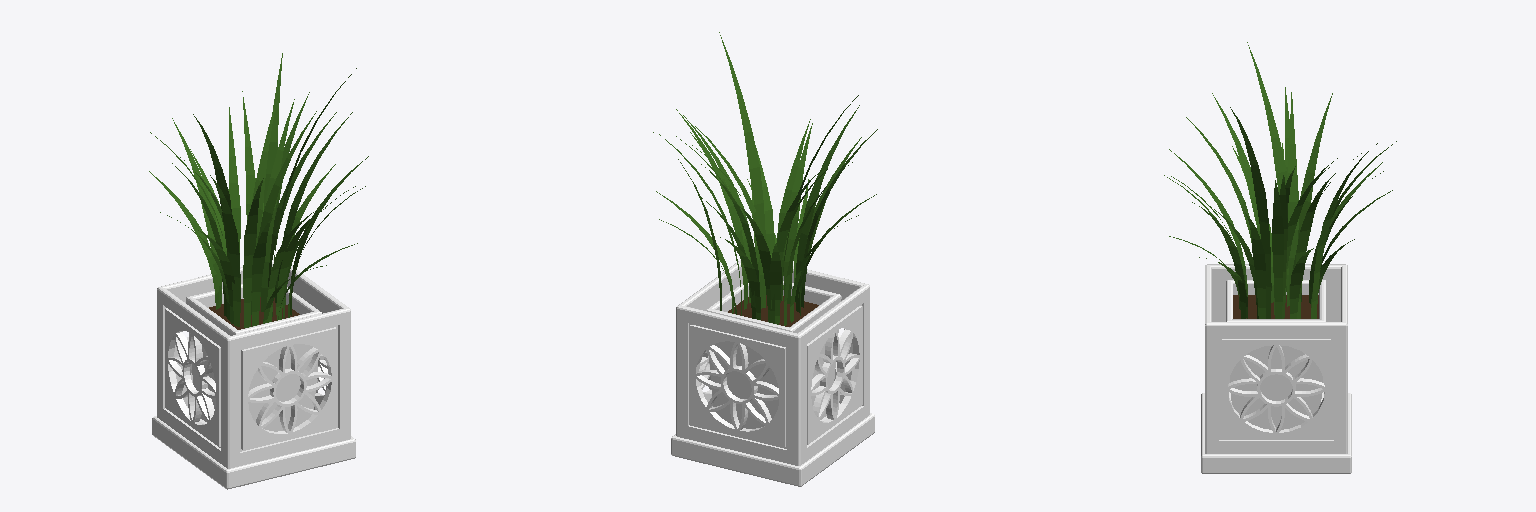
Rendered from Plant.obj.
The picture shows the model from 3 angles: view 1: azimuth 30°, elevation 25°; view 2: azimuth 150°, elevation 25°; view 3: azimuth 270°, elevation 25°; orthographic projection.
Parts seen in each view (by area): view 1: Mesh3 Kvetinac__kostra1 Model, Mesh1 Kvetinac__mozaika1 Model, Mesh6 Kvetinac__mozaika4 Model, Mesh2 Kvetinac__vnitrni1 Model, Mesh9 Trava_Steblo3 Trava1 Model, Mesh24 Trava_Steblo18 Trava1 Model, Mesh25 Trava_Steblo19 Trava1 Model, Mesh36 Trava_Steblo30 Trava1 Model, Mesh30 Trava_Steblo24 Trava1 Model, Mesh14 Trava_Steblo8 Trava1 Model, Mesh29 Trava_Steblo23 Trava1 Model, Mesh18 Trava_Steblo12 Trava1 Model (+10 smaller); view 2: Mesh3 Kvetinac__kostra1 Model, Mesh4 Kvetinac__mozaika2 Model, Mesh6 Kvetinac__mozaika4 Model, Mesh2 Kvetinac__vnitrni1 Model, Mesh34 Trava_Steblo28 Trava1 Model, Mesh9 Trava_Steblo3 Trava1 Model, Mesh20 Trava_Steblo14 Trava1 Model, Mesh26 Trava_Steblo20 Trava1 Model, Mesh14 Trava_Steblo8 Trava1 Model, Mesh7 Trava_Steblo1 Trava1 Model, Mesh28 Trava_Steblo22 Trava1 Model, Mesh23 Trava_Steblo17 Trava1 Model (+1 smaller); view 3: Mesh3 Kvetinac__kostra1 Model, Mesh5 Kvetinac__mozaika3 Model, Mesh2 Kvetinac__vnitrni1 Model, Mesh34 Trava_Steblo28 Trava1 Model, Mesh26 Trava_Steblo20 Trava1 Model, Mesh27 Trava_Steblo21 Trava1 Model, Mesh12 Trava_Steblo6 Trava1 Model, Mesh8 Trava_Steblo2 Trava1 Model, Mesh29 Trava_Steblo23 Trava1 Model, Mesh35 Trava_Steblo29 Trava1 Model, Mesh11 Trava_Steblo5 Trava1 Model, Mesh24 Trava_Steblo18 Trava1 Model (+3 smaller).
Part boxes in pixels (bbox=[...]): Mesh3 Kvetinac__kostra1 Model: bbox=[152, 259, 355, 489]; Mesh1 Kvetinac__mozaika1 Model: bbox=[240, 326, 337, 451]; Mesh6 Kvetinac__mozaika4 Model: bbox=[165, 307, 220, 447]; Mesh2 Kvetinac__vnitrni1 Model: bbox=[186, 284, 321, 431]; Mesh9 Trava_Steblo3 Trava1 Model: bbox=[243, 178, 263, 327]; Mesh24 Trava_Steblo18 Trava1 Model: bbox=[210, 175, 240, 326]; Mesh25 Trava_Steblo19 Trava1 Model: bbox=[261, 99, 294, 311]; Mesh36 Trava_Steblo30 Trava1 Model: bbox=[251, 218, 272, 326]; Mesh30 Trava_Steblo24 Trava1 Model: bbox=[228, 107, 240, 252]; Mesh14 Trava_Steblo8 Trava1 Model: bbox=[172, 118, 221, 307]; Mesh29 Trava_Steblo23 Trava1 Model: bbox=[264, 53, 282, 269]; Mesh18 Trava_Steblo12 Trava1 Model: bbox=[268, 112, 336, 286]; Mesh3 Kvetinac__kostra1 Model: bbox=[671, 260, 874, 486]; Mesh4 Kvetinac__mozaika2 Model: bbox=[689, 323, 786, 448]; Mesh6 Kvetinac__mozaika4 Model: bbox=[807, 304, 862, 444]; Mesh2 Kvetinac__vnitrni1 Model: bbox=[705, 281, 841, 428]; Mesh34 Trava_Steblo28 Trava1 Model: bbox=[719, 32, 765, 308]; Mesh9 Trava_Steblo3 Trava1 Model: bbox=[795, 105, 859, 312]; Mesh20 Trava_Steblo14 Trava1 Model: bbox=[784, 123, 812, 303]; Mesh26 Trava_Steblo20 Trava1 Model: bbox=[676, 109, 747, 309]; Mesh14 Trava_Steblo8 Trava1 Model: bbox=[737, 204, 774, 323]; Mesh7 Trava_Steblo1 Trava1 Model: bbox=[769, 244, 781, 324]; Mesh28 Trava_Steblo22 Trava1 Model: bbox=[777, 119, 810, 300]; Mesh23 Trava_Steblo17 Trava1 Model: bbox=[755, 145, 774, 253]; Mesh3 Kvetinac__kostra1 Model: bbox=[1201, 264, 1351, 473]; Mesh5 Kvetinac__mozaika3 Model: bbox=[1219, 337, 1333, 439]; Mesh2 Kvetinac__vnitrni1 Model: bbox=[1226, 280, 1325, 429]; Mesh34 Trava_Steblo28 Trava1 Model: bbox=[1230, 107, 1271, 318]; Mesh26 Trava_Steblo20 Trava1 Model: bbox=[1272, 180, 1283, 318]; Mesh27 Trava_Steblo21 Trava1 Model: bbox=[1288, 92, 1298, 299]; Mesh12 Trava_Steblo6 Trava1 Model: bbox=[1247, 42, 1289, 306]; Mesh8 Trava_Steblo2 Trava1 Model: bbox=[1245, 213, 1265, 318]; Mesh29 Trava_Steblo23 Trava1 Model: bbox=[1312, 143, 1377, 318]; Mesh35 Trava_Steblo29 Trava1 Model: bbox=[1298, 93, 1332, 301]; Mesh11 Trava_Steblo5 Trava1 Model: bbox=[1295, 173, 1335, 318]; Mesh24 Trava_Steblo18 Trava1 Model: bbox=[1212, 93, 1260, 238].
Size of the model in its own units: 6.29 by 11.46 by 6.53.